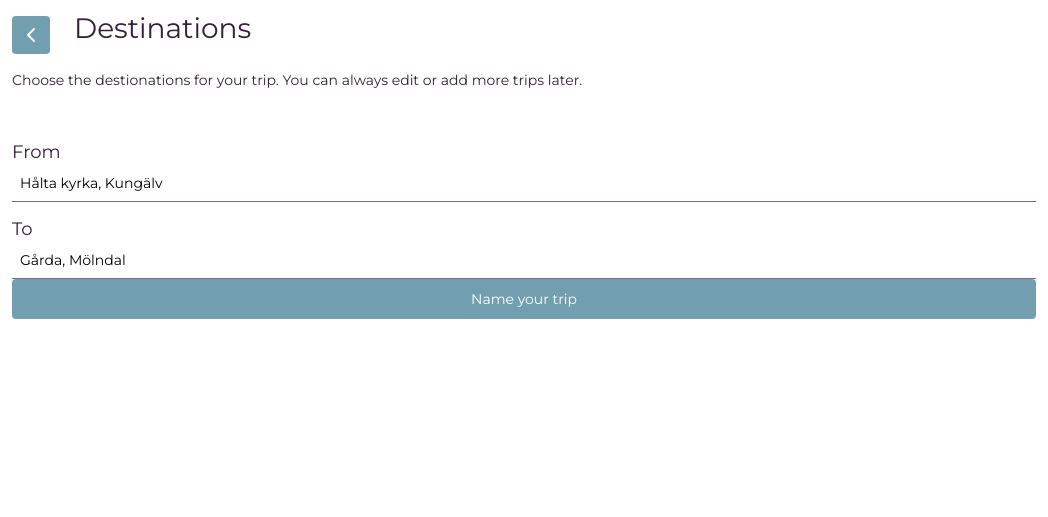
Scenario: <ChooseDestionationView /> › should show dropdown when typing in the from input
This screenshot has width=1048, height=517.
In the field with test id "from-input": (524, 184) [12,166,1036,202], type "aa"
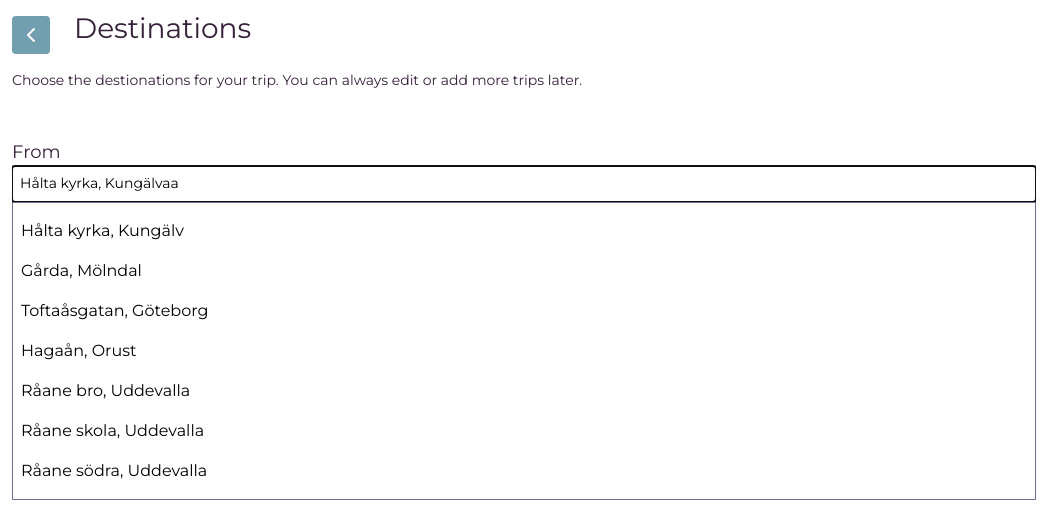
Check: the list is shown, box [12,202,1036,500]
